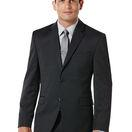F_M_suit jacket: (18, 24, 113, 128)
F_tie: (60, 29, 70, 67)
